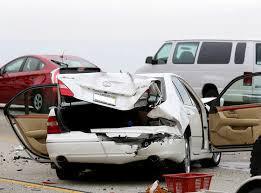Rear-windscreen-Damage: (80, 128, 174, 167)
bonnet-dent: (51, 62, 151, 118)
